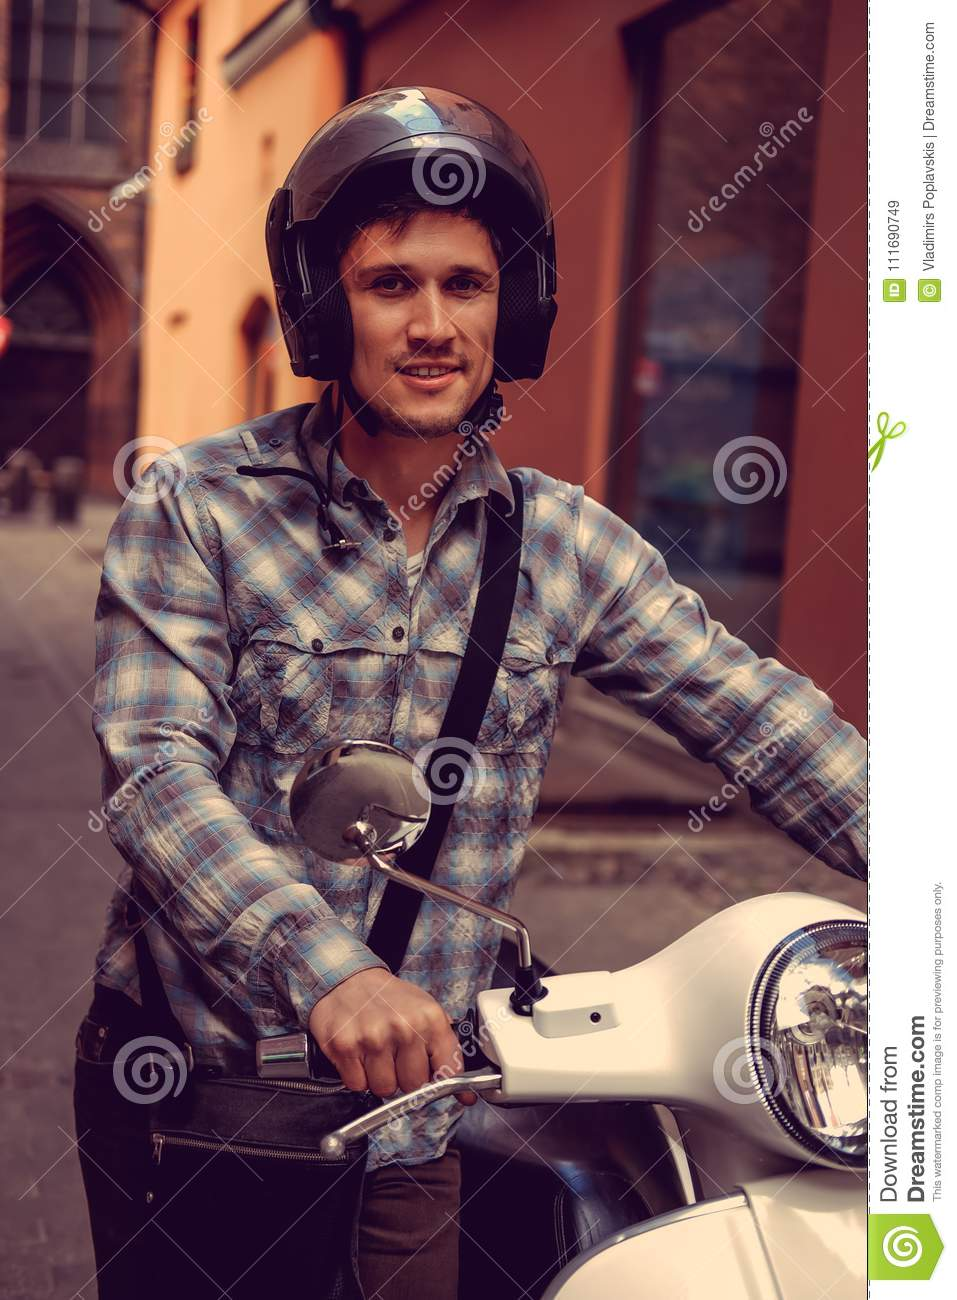helmet: (260, 95, 568, 373)
